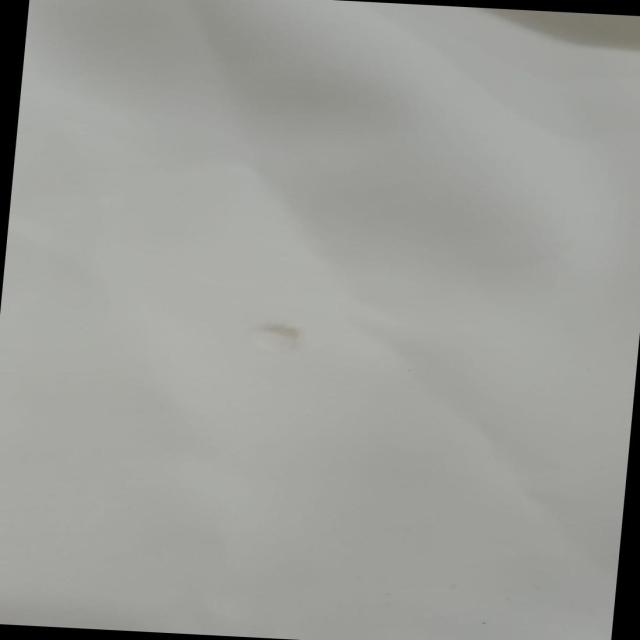stain: (235, 314, 313, 358)
